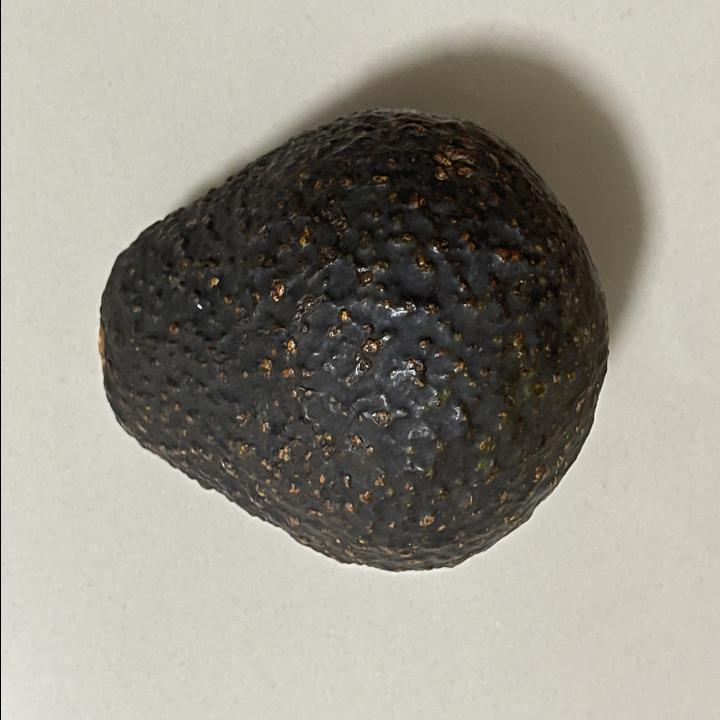Level2: (89, 103, 614, 584)
